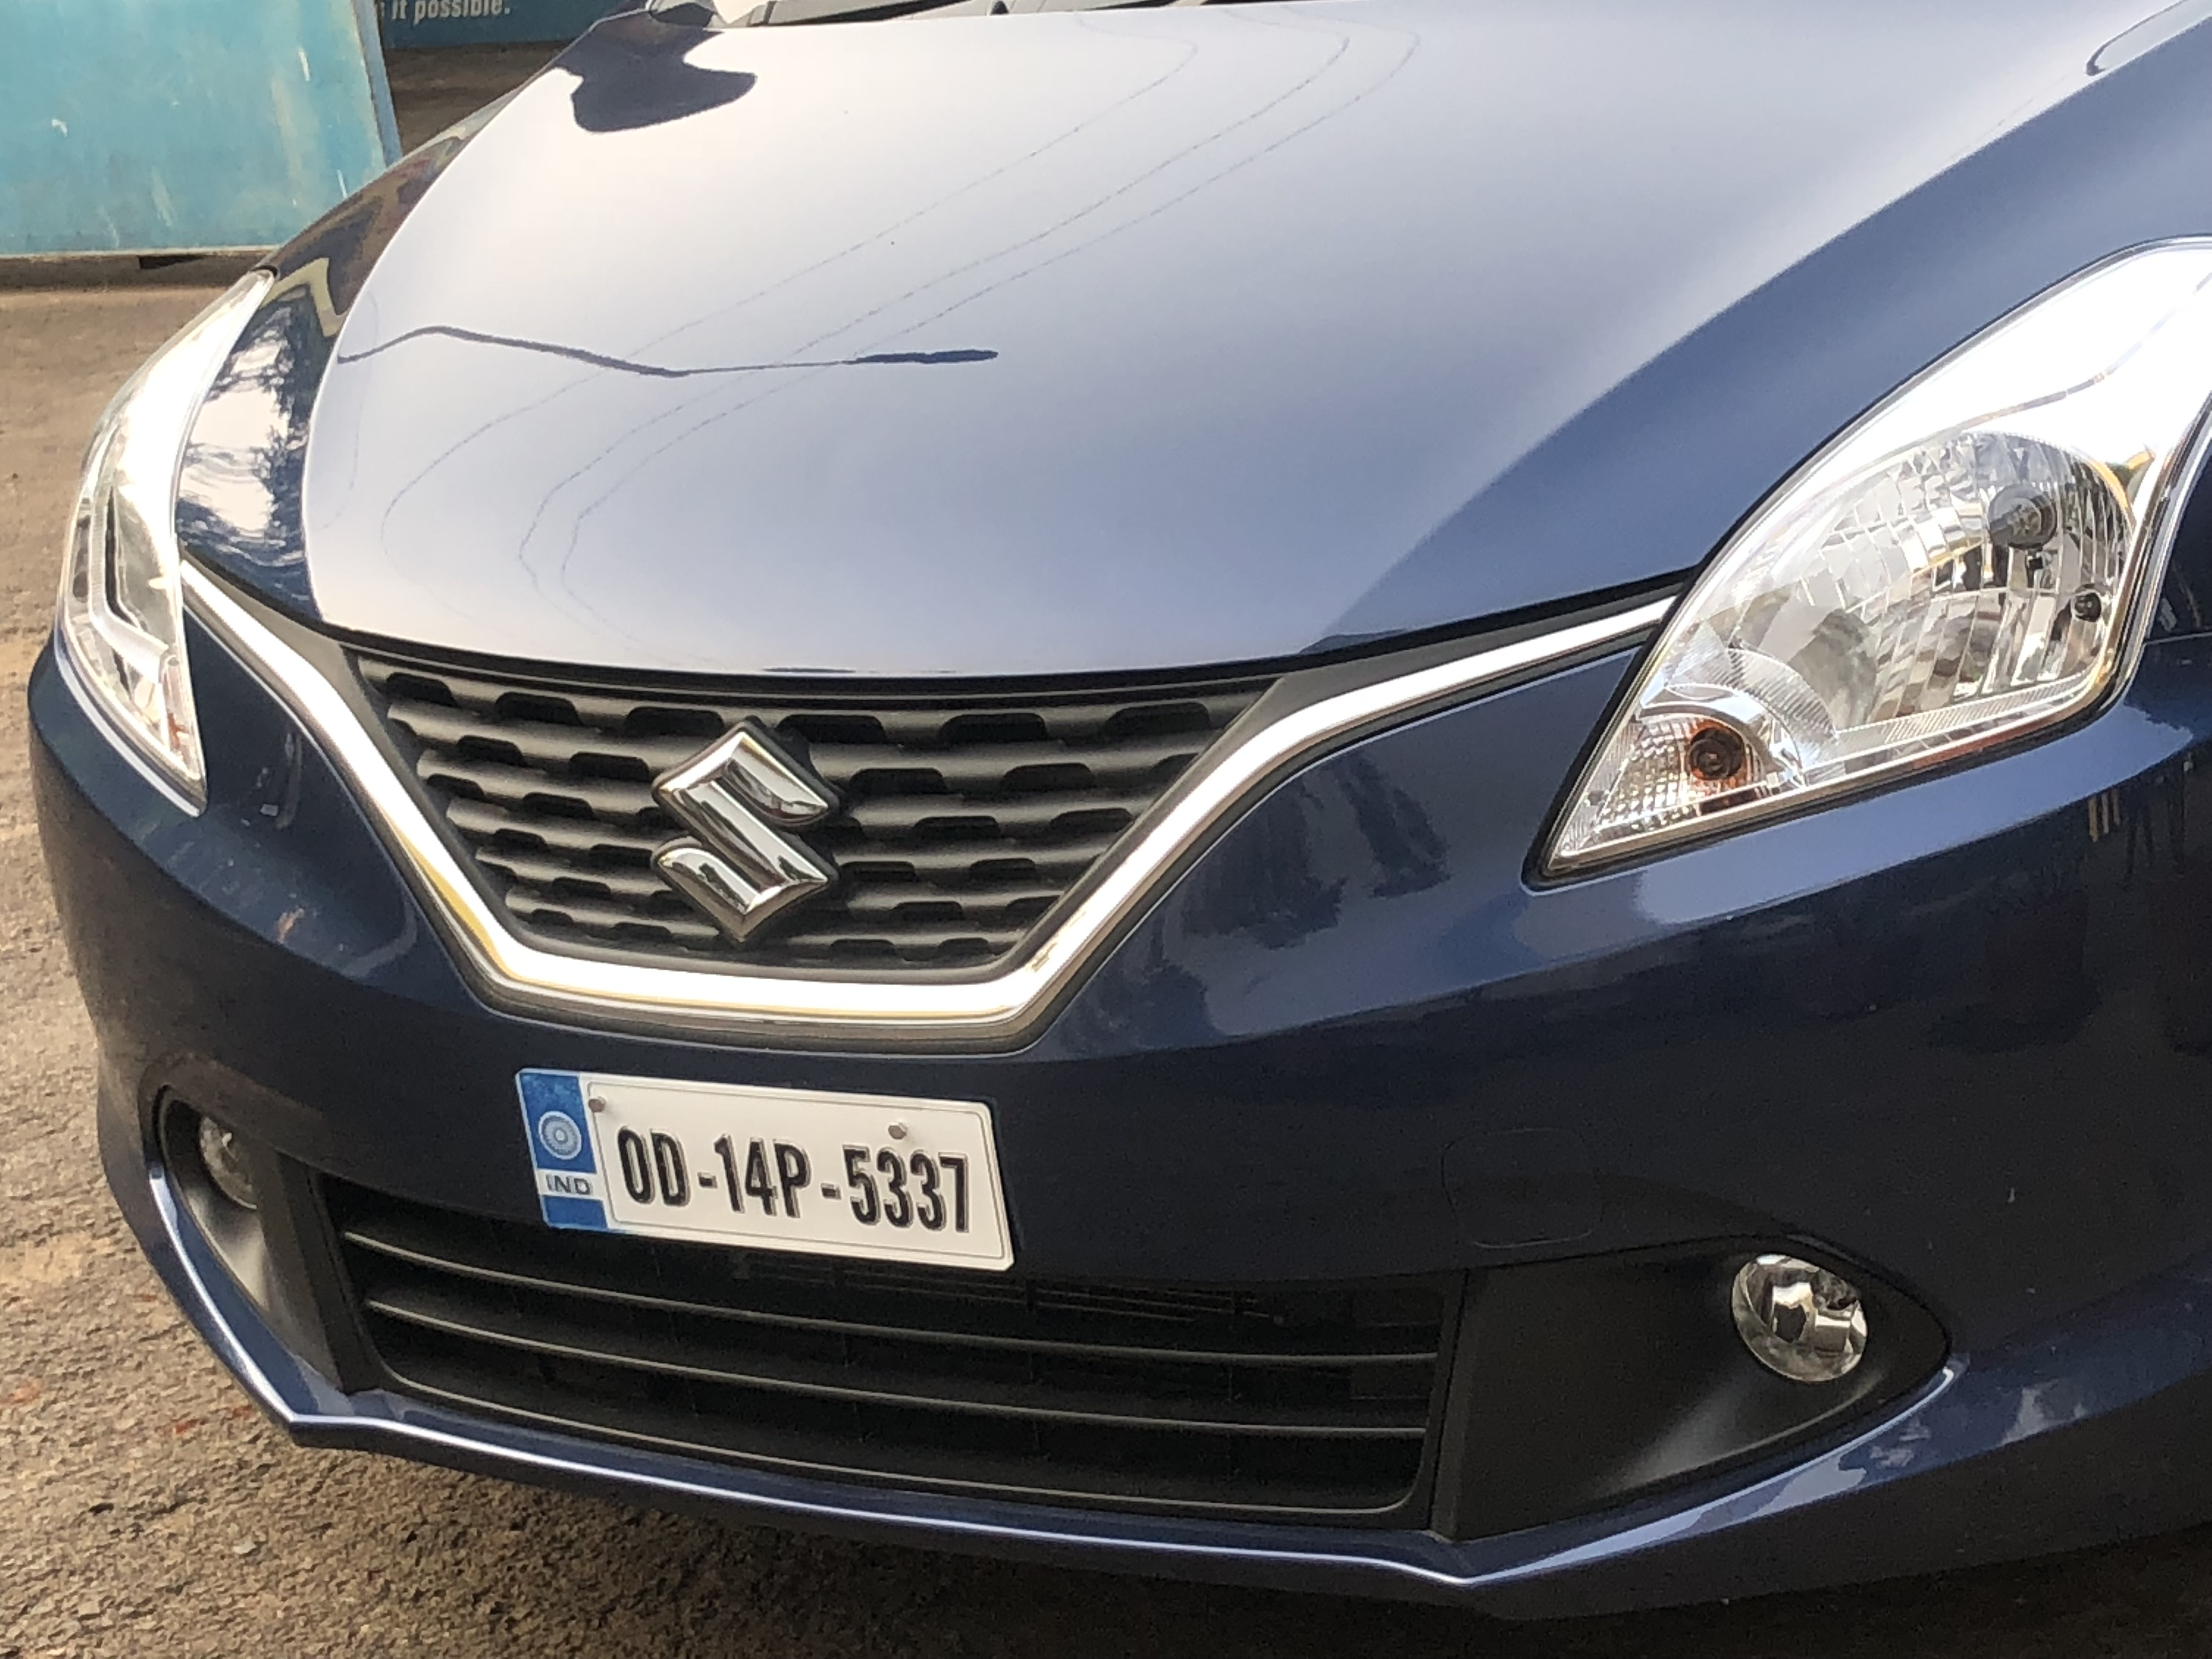licenseplate: (506, 1068, 1020, 1283)
